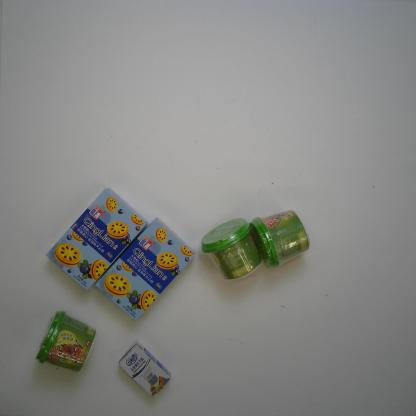Dessert: (45, 184, 150, 296), (95, 213, 199, 324)
Instant Drink: (200, 218, 264, 284), (248, 208, 312, 270), (34, 311, 96, 373)
Milk: (118, 340, 172, 398)
